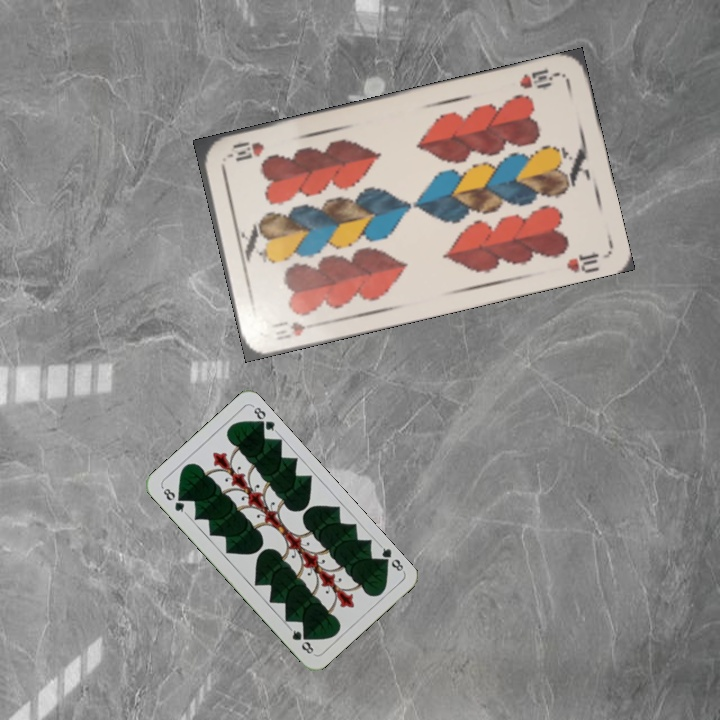G8: (375, 541, 407, 575), (158, 483, 189, 517)
H10: (515, 65, 562, 92), (267, 317, 308, 343)
